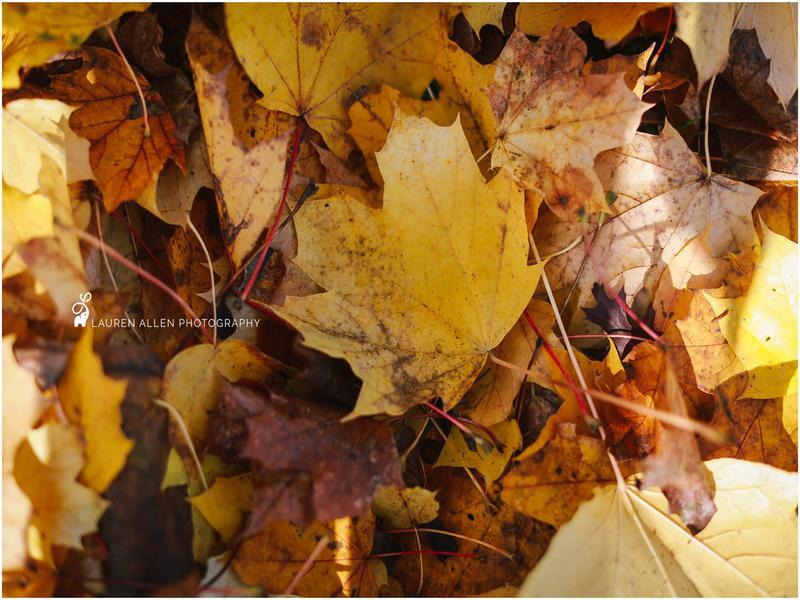leaf: (272, 107, 552, 424), (481, 24, 662, 230), (211, 367, 409, 544)
